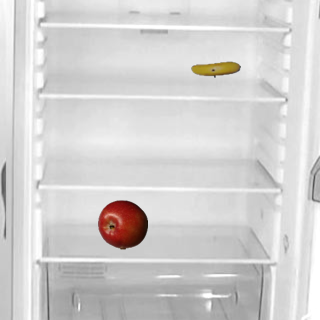Apple Braeburn: (97, 199, 147, 249)
Banana: (190, 44, 240, 94)
